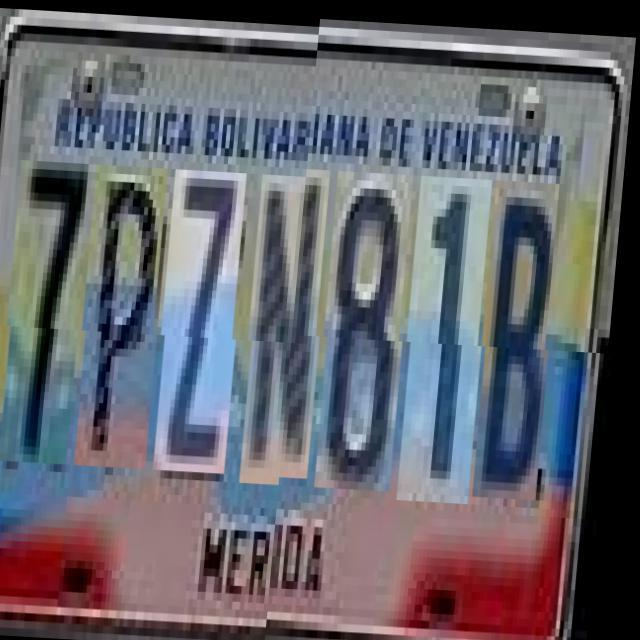1: (404, 178, 498, 506)
7: (8, 160, 96, 463)
8: (322, 175, 420, 494)
B: (480, 182, 566, 501)
N: (248, 171, 336, 482)
P: (82, 164, 174, 466)
Z: (162, 167, 254, 470)
